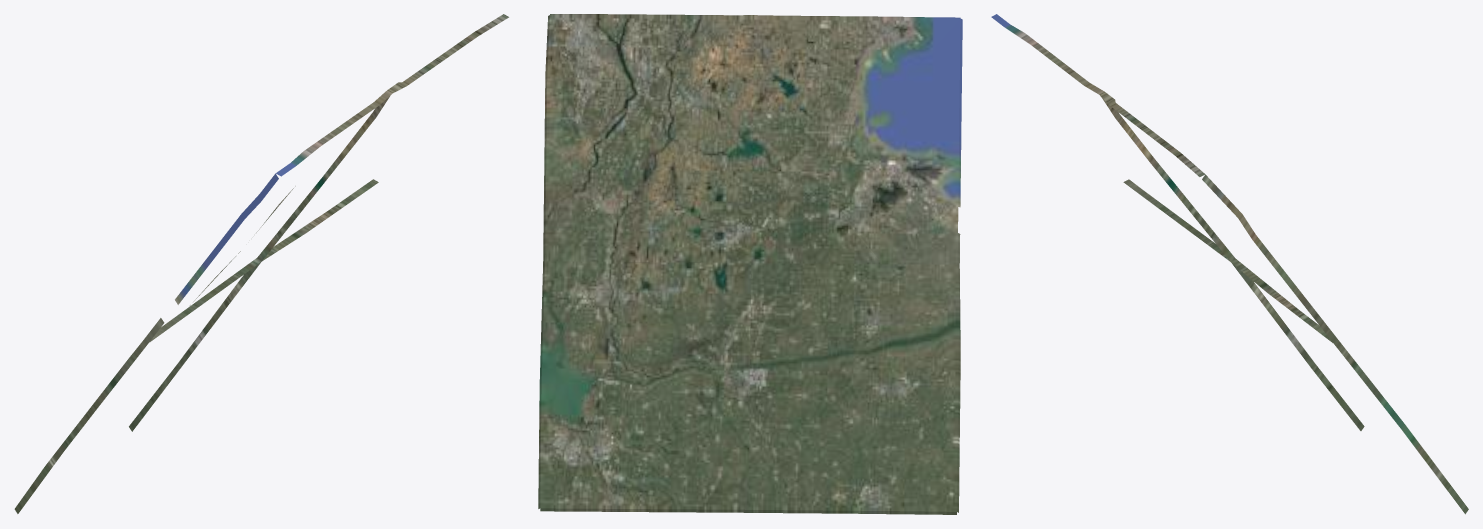
The picture shows the model from 3 angles, left to right: view 1: azimuth 30°, elevation 25°; view 2: azimuth 150°, elevation 25°; view 3: azimuth 270°, elevation 25°; orthographic projection. The views are drawn at different scales.
Bounding box in the file's own units: 157407 × 131625 × 142081.
1 material, 1 textured.
